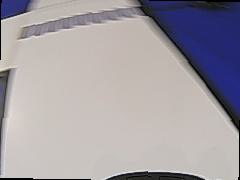CrossWalk: (9, 4, 154, 41)
